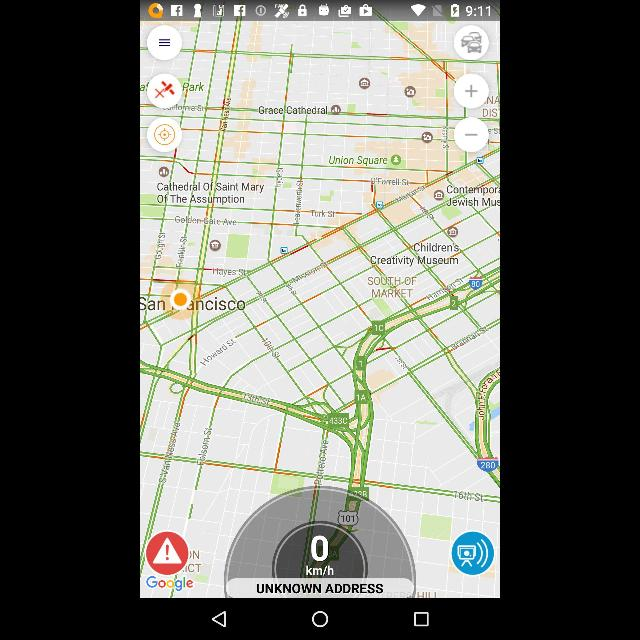icon: (412, 611, 430, 629), (211, 610, 227, 630), (312, 610, 328, 626)
map: (142, 21, 498, 598)
panel: (140, 600, 500, 640)
uppertaskbar: (142, 2, 500, 20)
